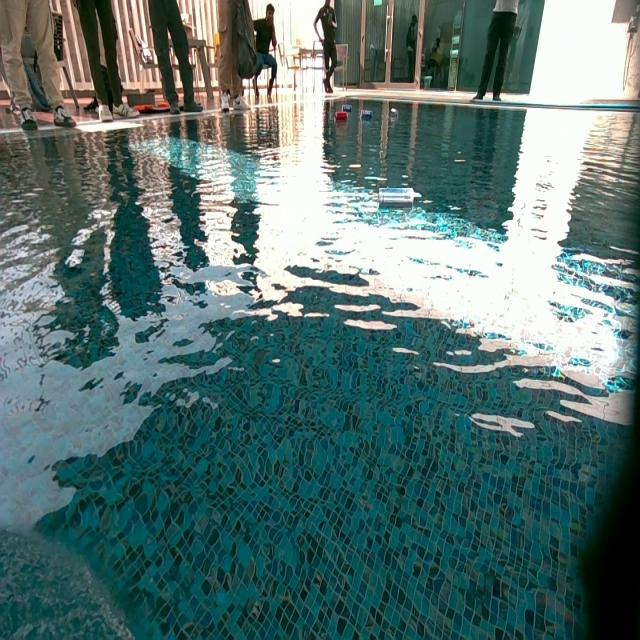Cans: (378, 187, 414, 211), (337, 111, 348, 123), (361, 110, 372, 120), (341, 105, 352, 113), (390, 108, 399, 116)
